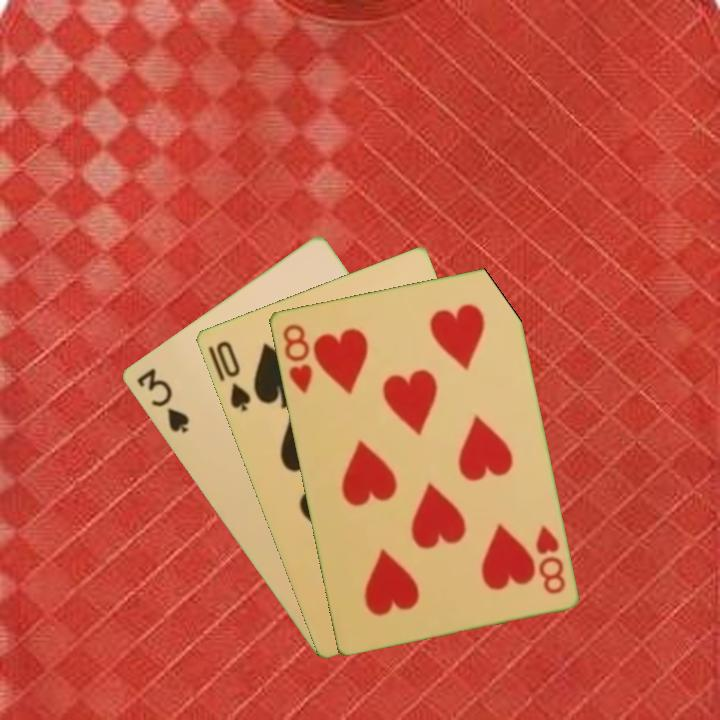10s: (212, 337, 253, 414)
3s: (132, 364, 192, 436)
8h: (278, 320, 315, 397), (531, 521, 568, 597)
